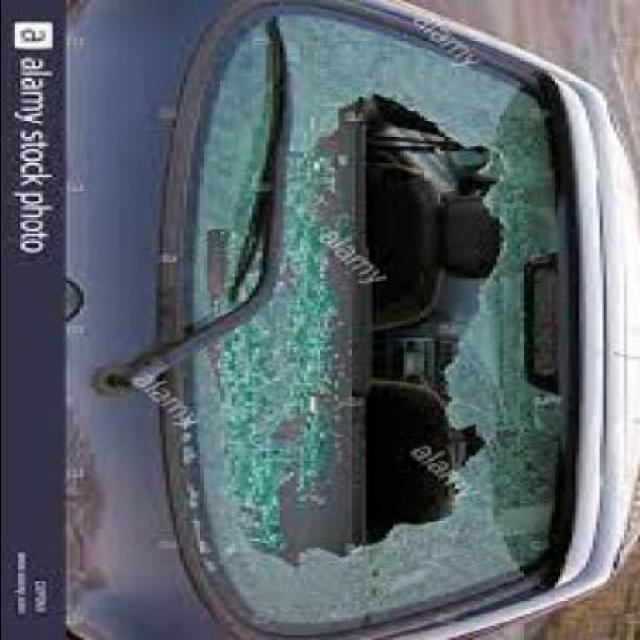Rear-windscreen-Damage: (241, 45, 565, 588)
